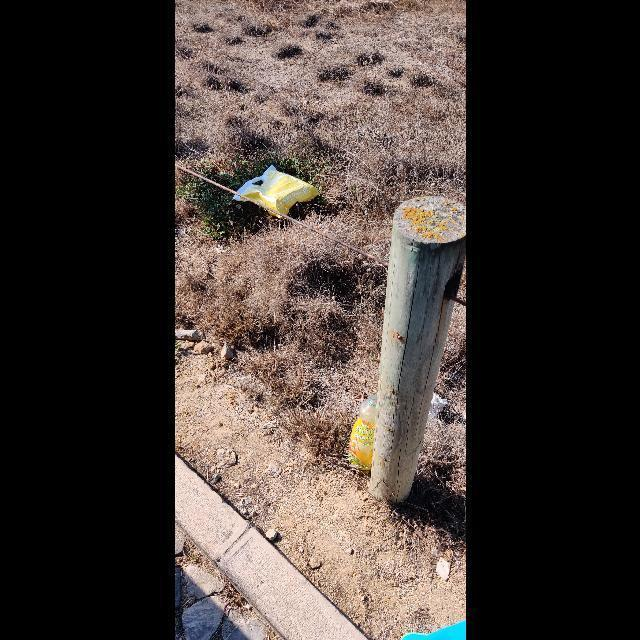Plastic: (232, 166, 320, 218), (348, 395, 377, 473), (428, 392, 446, 422)
